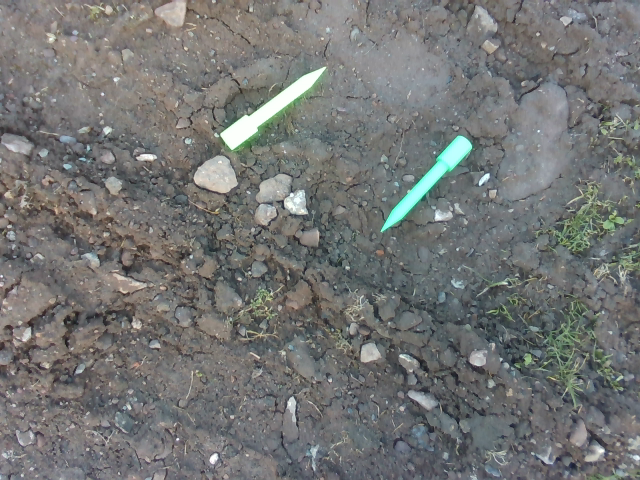Probe: (214, 61, 331, 154), (376, 131, 475, 239)
